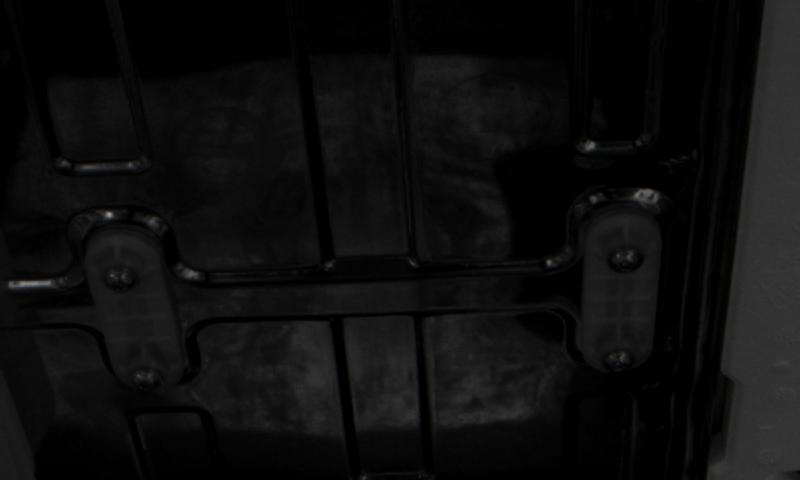vida-ok: (602, 236, 645, 281), (98, 254, 138, 299), (126, 358, 168, 398), (599, 341, 639, 379)
